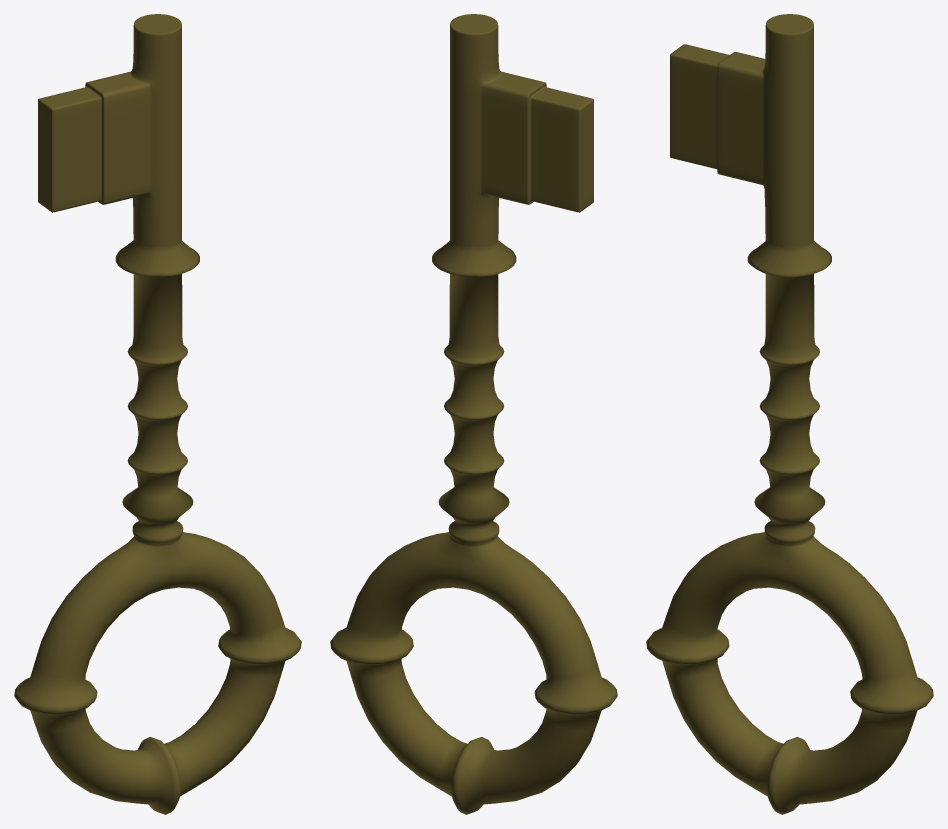
File: Llave1.fbx
3 views of the same model, side by side, from view 1: azimuth 30°, elevation 25°; view 2: azimuth 150°, elevation 25°; view 3: azimuth 330°, elevation 25° (orthographic).
Visible parts, largest first — view 1: Key; view 2: Key; view 3: Key.
Boxes of the visible parts, x1,y1,x2,y2 form: Key: [14, 14, 301, 814]; Key: [330, 14, 617, 814]; Key: [646, 14, 933, 814].
Size of the model in its own units: 24.18 by 65.7 by 6.38.
